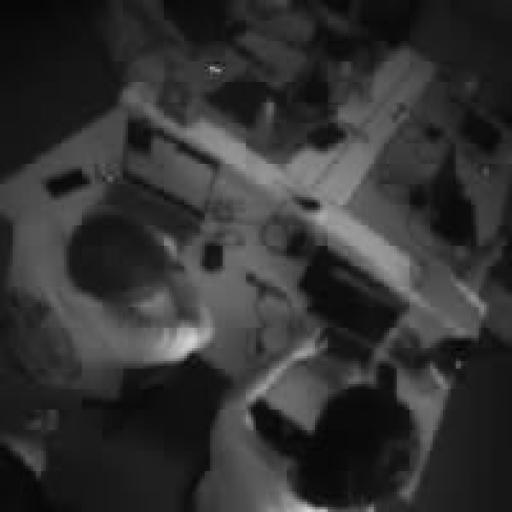human: (195, 333, 419, 511), (11, 208, 212, 399), (97, 0, 199, 90), (0, 433, 53, 511), (228, 0, 314, 46)
